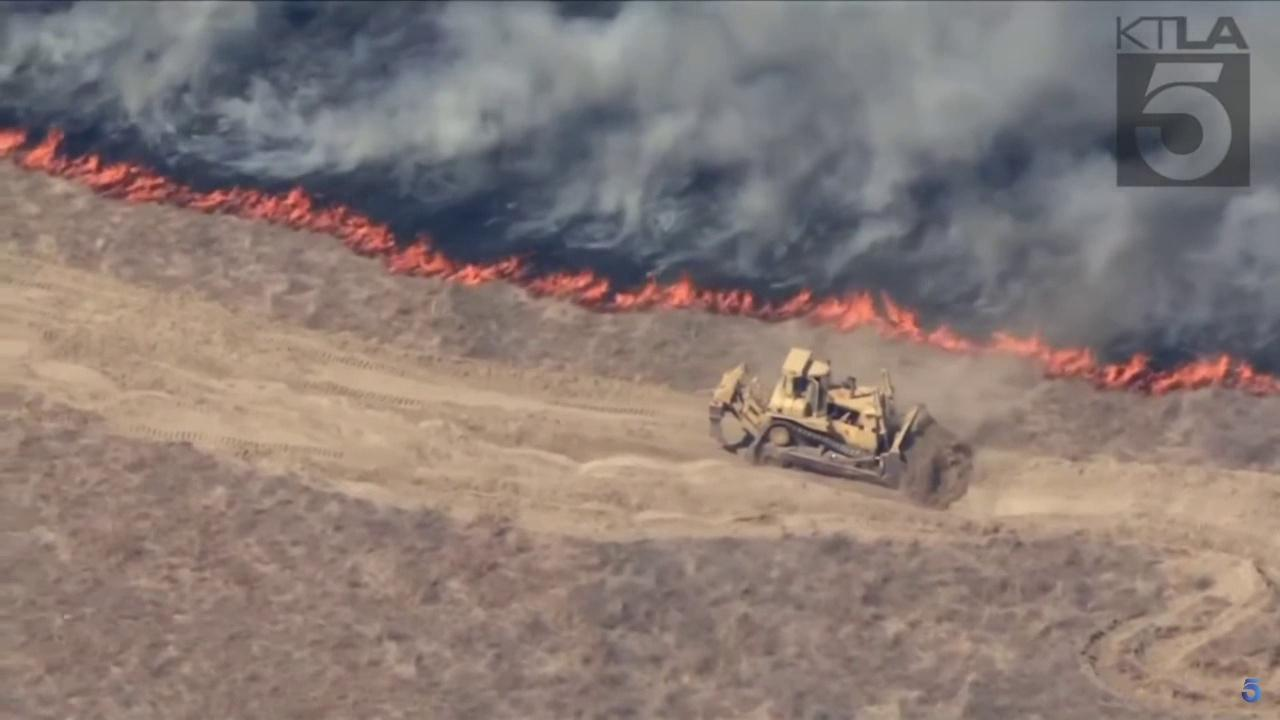fire: (0, 122, 1280, 395)
smoke: (0, 0, 1280, 356)
